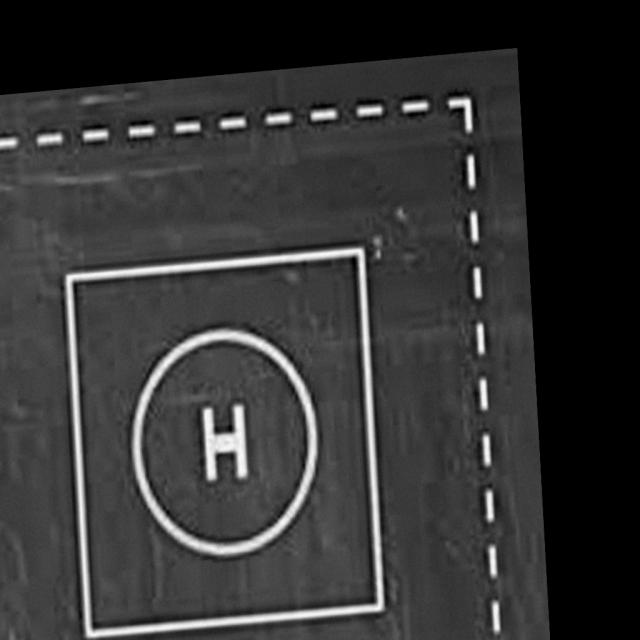helipad: (129, 322, 325, 560)
